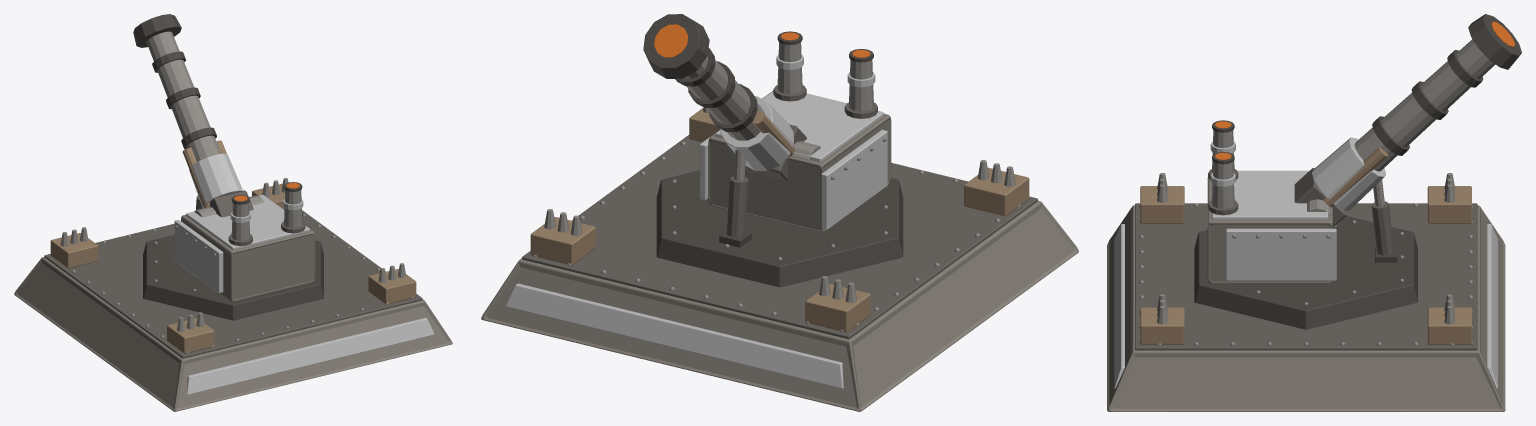
File: crucible_plasma_battery.glb
The picture shows the model from 3 angles, left to right: view 1: azimuth 30°, elevation 25°; view 2: azimuth 150°, elevation 25°; view 3: azimuth 270°, elevation 25°; orthographic projection. The views are drawn at different scales.
Parts seen in each view (by area): view 1: Body, Turret; view 2: Body, Turret; view 3: Body, Turret.
Part boxes in pixels (<box>): Body: <box>14,178,452,411</box>; Turret: <box>133,14,323,320</box>; Body: <box>481,107,1078,411</box>; Turret: <box>643,14,903,287</box>; Body: <box>1107,173,1505,411</box>; Turret: <box>1194,14,1521,329</box>.
Bounding box in the file's own units: 14.42 × 12.41 × 15.01.
